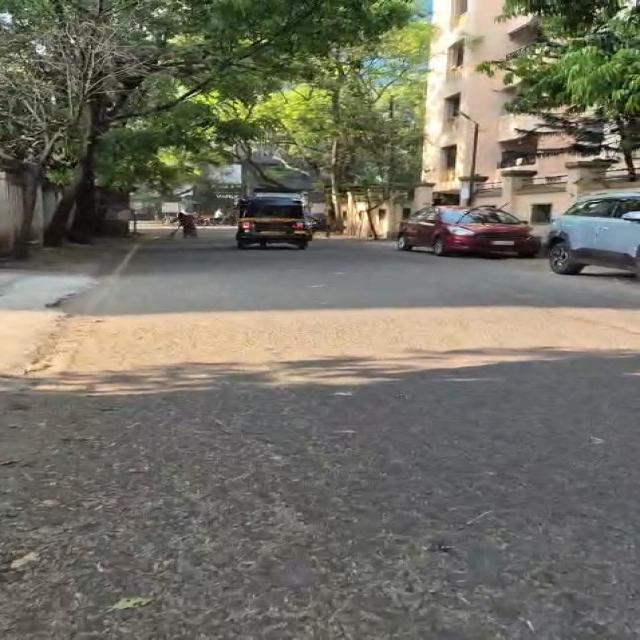bench: (545, 190, 639, 274), (398, 206, 540, 258), (236, 196, 313, 249)
bike: (466, 122, 479, 206)
